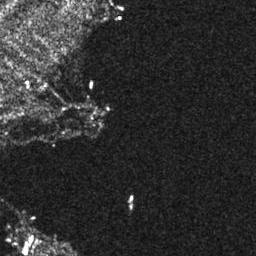ship: (20, 236, 35, 255), (125, 195, 136, 211), (87, 79, 94, 89), (115, 14, 122, 22), (116, 5, 124, 11), (105, 105, 110, 111)
